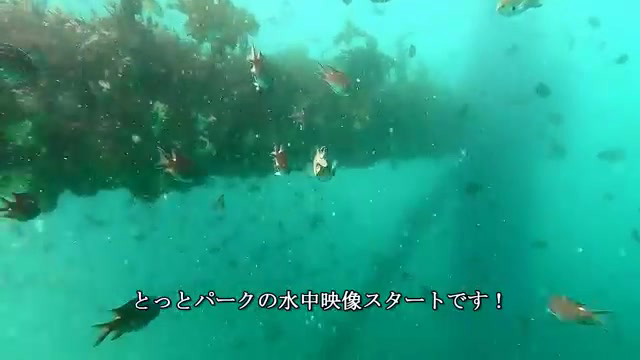smallfish: (541, 289, 617, 336), (313, 60, 355, 105)
